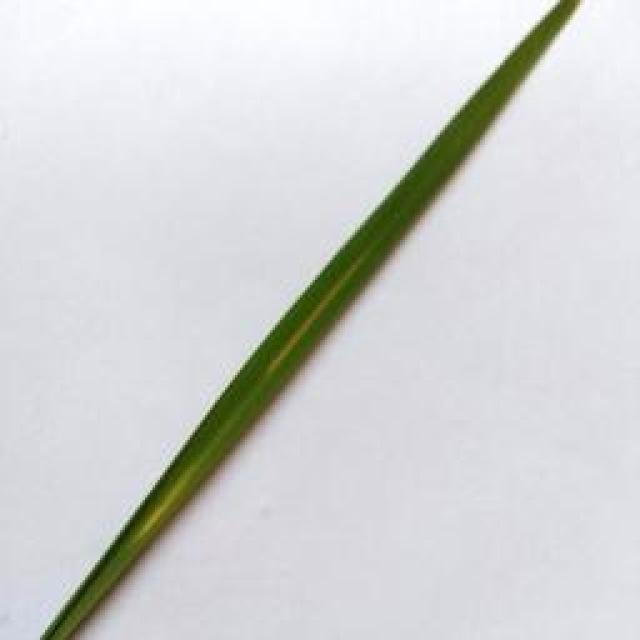Bacterial_Blight: (245, 202, 432, 438), (65, 438, 242, 640)
